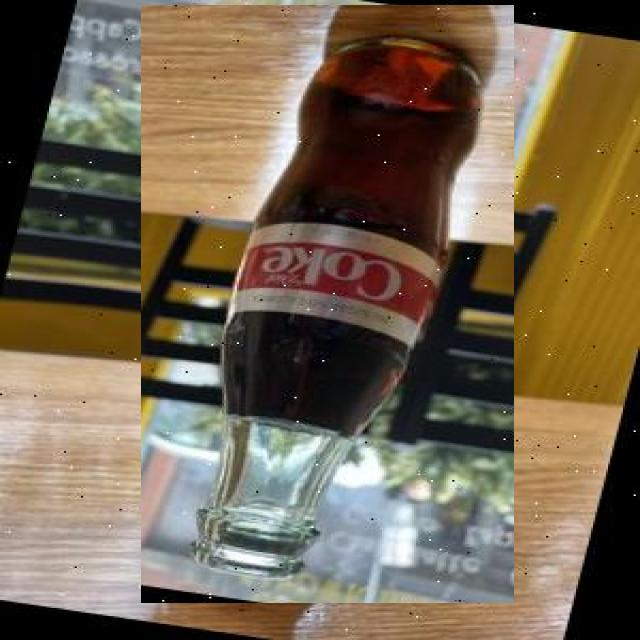coca-cola: (141, 5, 514, 603)
